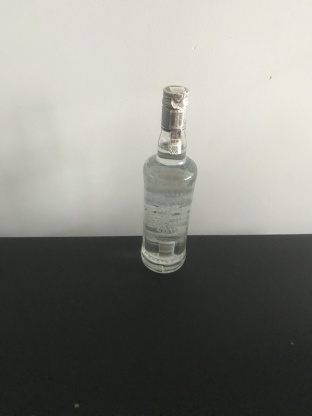nakretka: (159, 84, 190, 133)
